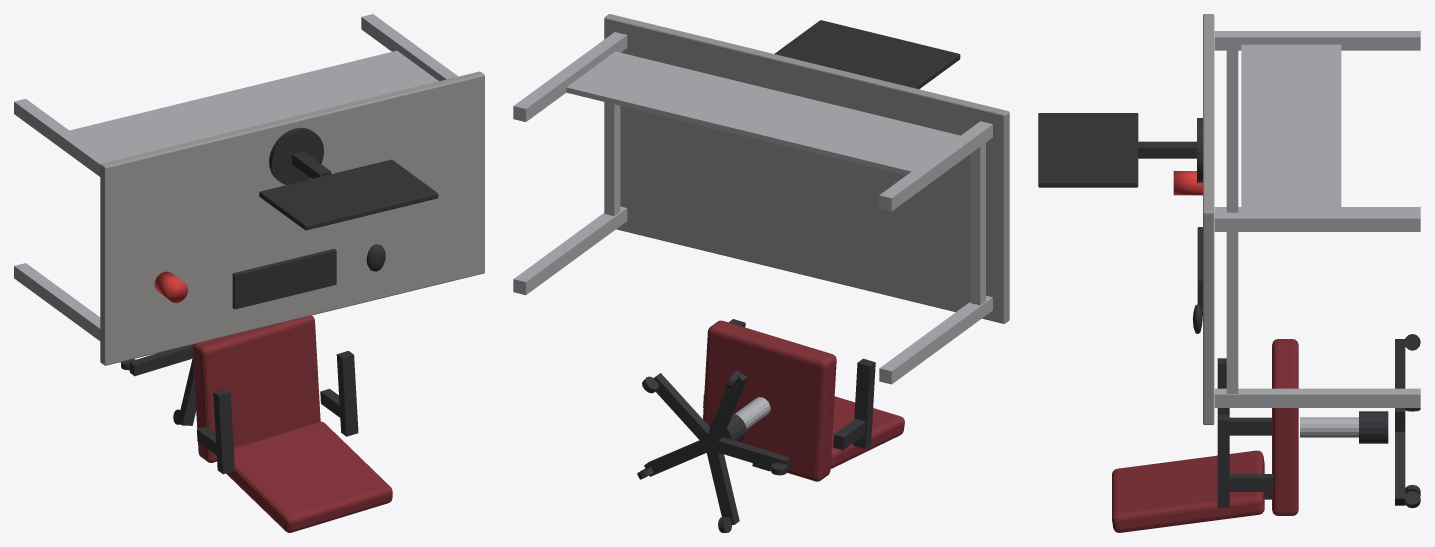
The model's file is podB_workstation3.glb.
The picture shows the model from 3 angles, left to right: view 1: azimuth 30°, elevation 25°; view 2: azimuth 150°, elevation 25°; view 3: azimuth 270°, elevation 25°; orthographic projection. The views are drawn at different scales.
Visible parts, largest first — view 1: podB_desk3_top, podB_desk3_modesty, podB_chair3_seat, podB_chair3_back, podB_mon3_panel, podB_clut3_keyboard, podB_desk3_leg.001, podB_desk3_leg, podB_mon3_base, podB_desk3_leg.003, podB_chair3_arm, podB_chair3_arm.001 (+4 smaller); view 2: podB_desk3_top, podB_desk3_modesty, podB_chair3_seat, podB_mon3_panel, podB_desk3_leg.001, podB_desk3_leg.002, podB_desk3_leg, podB_desk3_leg.003, podB_desk3_rail, podB_chair3_back, podB_desk3_rail.001, podB_chair3_arm.001 (+7 smaller); view 3: podB_desk3_modesty, podB_chair3_back, podB_mon3_panel, podB_desk3_top, podB_chair3_seat, podB_desk3_leg.003, podB_desk3_leg.002, podB_desk3_leg.001, podB_desk3_rail, podB_desk3_rail.001, podB_chair3_column, podB_chair3_arm (+9 smaller).
Boxes of the visible parts, left/top/right/bottom form: podB_desk3_top: left=100, top=71, right=484, bottom=365; podB_desk3_modesty: left=69, top=50, right=438, bottom=161; podB_chair3_seat: left=192, top=315, right=320, bottom=462; podB_chair3_back: left=226, top=421, right=392, bottom=532; podB_mon3_panel: left=259, top=159, right=438, bottom=230; podB_clut3_keyboard: left=232, top=249, right=336, bottom=309; podB_desk3_leg.001: left=14, top=99, right=110, bottom=176; podB_desk3_leg: left=14, top=263, right=100, bottom=340; podB_mon3_base: left=269, top=127, right=323, bottom=184; podB_desk3_leg.003: left=361, top=14, right=458, bottom=81; podB_chair3_arm: left=336, top=351, right=358, bottom=436; podB_chair3_arm.001: left=213, top=388, right=234, bottom=474; podB_desk3_top: left=604, top=14, right=1009, bottom=323; podB_desk3_modesty: left=566, top=51, right=960, bottom=175; podB_chair3_seat: left=703, top=320, right=836, bottom=481; podB_mon3_panel: left=774, top=20, right=960, bottom=89; podB_desk3_leg.001: left=879, top=121, right=992, bottom=211; podB_desk3_leg.002: left=513, top=206, right=627, bottom=295; podB_desk3_leg: left=879, top=295, right=992, bottom=384; podB_desk3_leg.003: left=513, top=32, right=627, bottom=121; podB_desk3_rail: left=970, top=143, right=985, bottom=305; podB_chair3_back: left=830, top=396, right=904, bottom=468; podB_desk3_rail.001: left=604, top=102, right=620, bottom=215; podB_chair3_arm.001: left=853, top=358, right=875, bottom=448; podB_desk3_modesty: left=1241, top=44, right=1341, bottom=212; podB_chair3_back: left=1112, top=450, right=1264, bottom=532; podB_mon3_panel: left=1038, top=113, right=1138, bottom=187; podB_desk3_top: left=1203, top=14, right=1214, bottom=424; podB_chair3_seat: left=1272, top=339, right=1298, bottom=515; podB_desk3_leg.003: left=1214, top=212, right=1420, bottom=231; podB_desk3_leg.002: left=1214, top=388, right=1420, bottom=407; podB_desk3_leg.001: left=1214, top=31, right=1420, bottom=50; podB_desk3_rail: left=1226, top=50, right=1238, bottom=212; podB_desk3_rail.001: left=1226, top=232, right=1238, bottom=393; podB_chair3_column: left=1300, top=417, right=1358, bottom=437; podB_chair3_arm: left=1217, top=414, right=1229, bottom=507.
Bounding box in the file's own units: 1.6 × 1.49 × 1.3.
